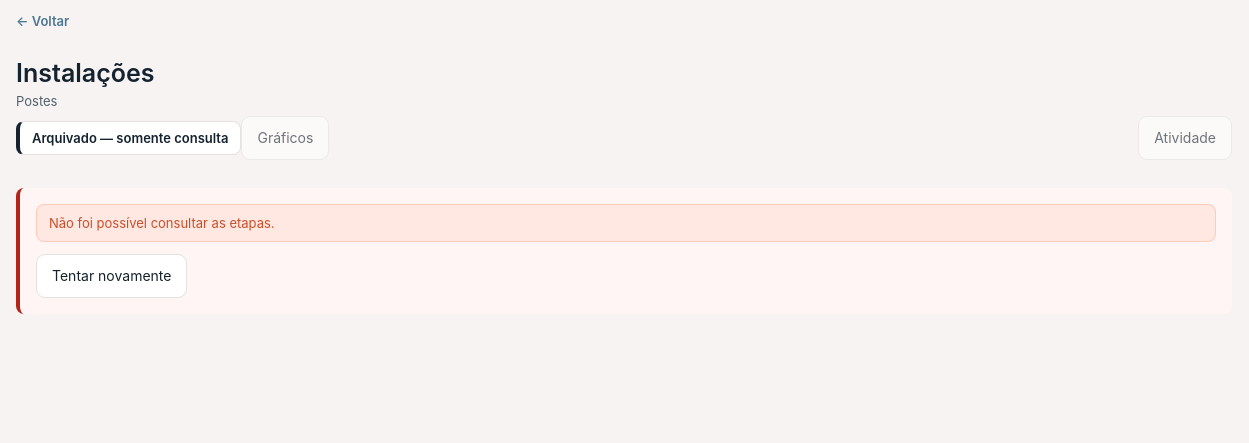
GER-40: erro 500 é anunciado e repetir carrega somente as etapas
The image size is (1249, 443).
Expected: the message reads "Não foi possível consultar as etapas.", 49,214 -> 275,230
Expected: the text "Arquivado — somente consulta" is shown, 16,121 -> 242,155
Click the button "Tentar novamente".
click(112, 276)  # box 36,254 -> 188,298
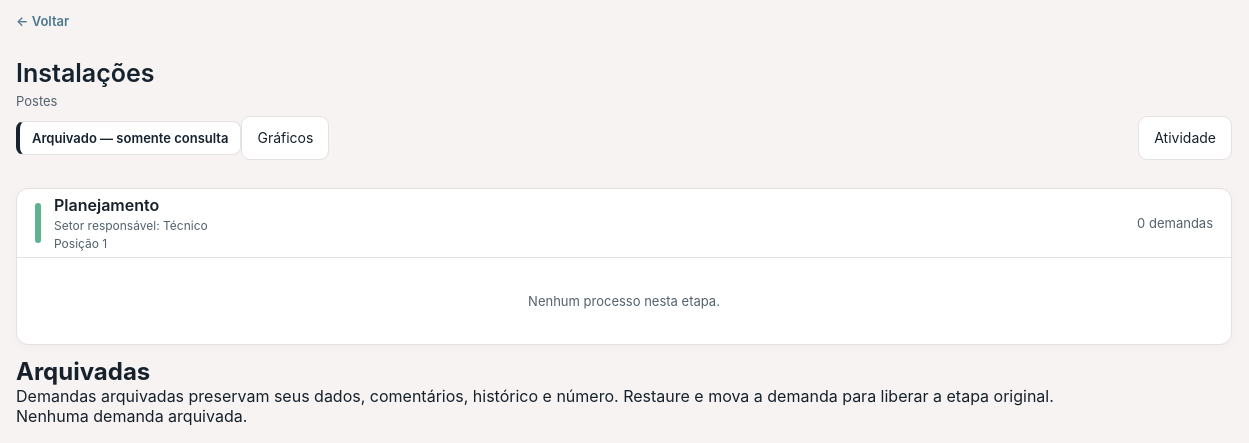
Expected: the heading "Planejamento" is shown, 54,194 -> 159,214
Expected: the message "Não foi possível consultar as etapas." is gone
